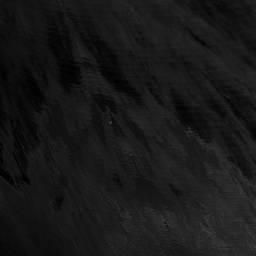Target: (108, 119, 113, 125)
